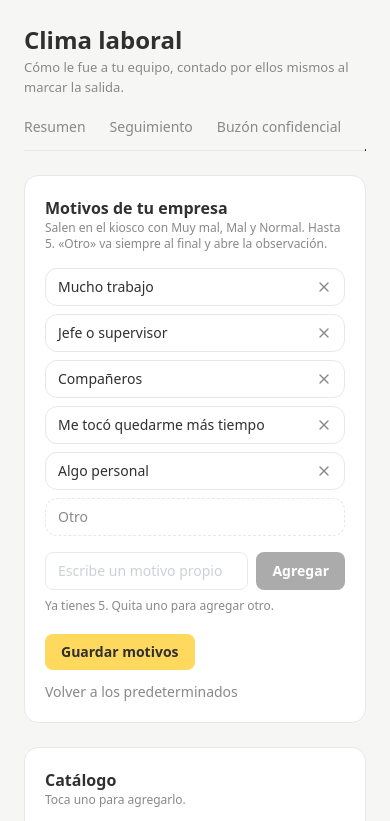
Test: motivos › se puede escribir un motivo propio
Click the button named "Quitar «Algo personal»" at (324, 471), box [316, 463, 332, 479]
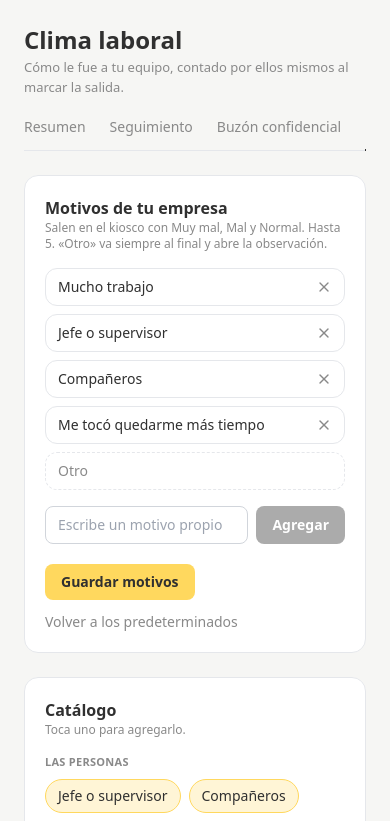
Type "Falta de uniformes" into the field labelled "motivo propio" at (147, 525), box [45, 506, 248, 544]
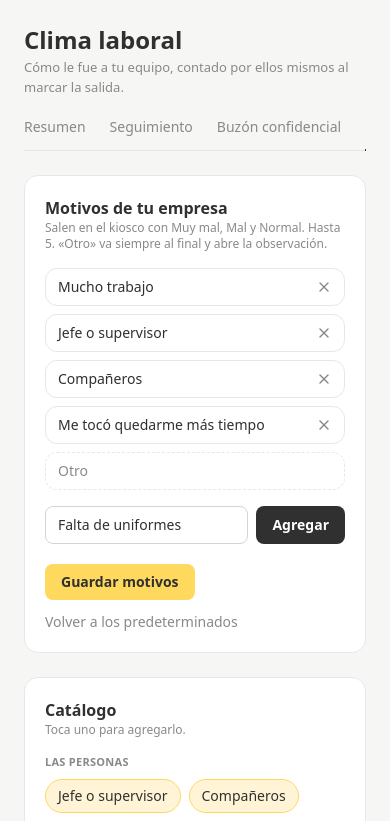
Click the button "Agregar" at (301, 525), box [256, 506, 345, 544]
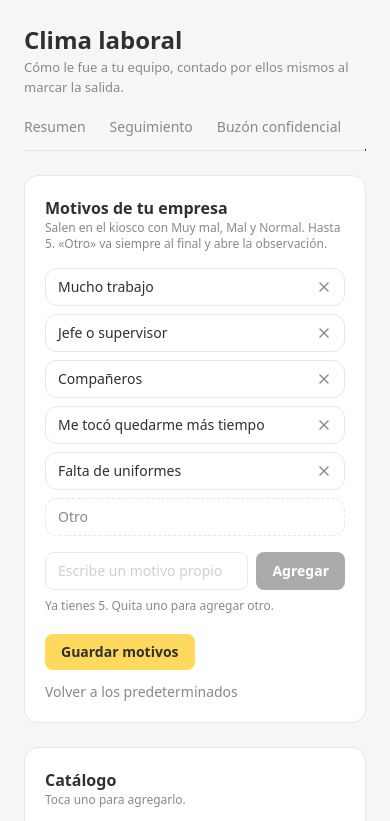
Now the list item "Falta de uniformes" is shown, box [45, 452, 345, 490]
